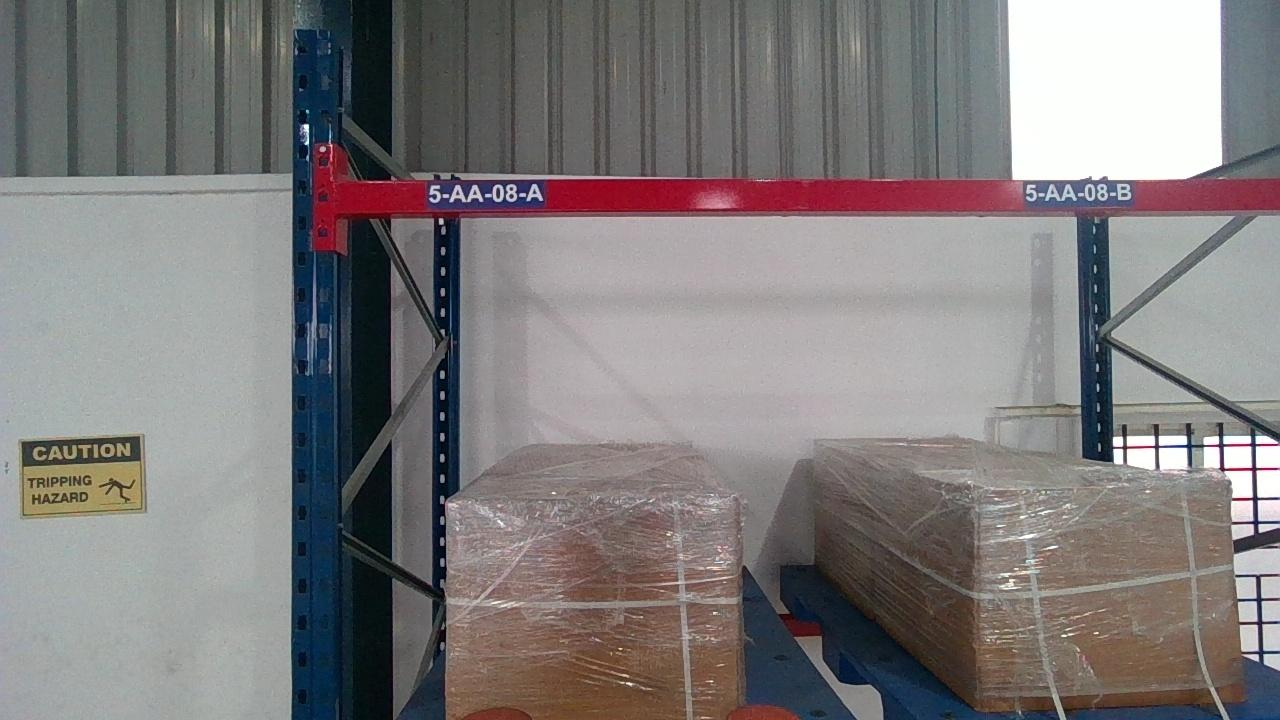h_rack: (336, 177, 1279, 214)
